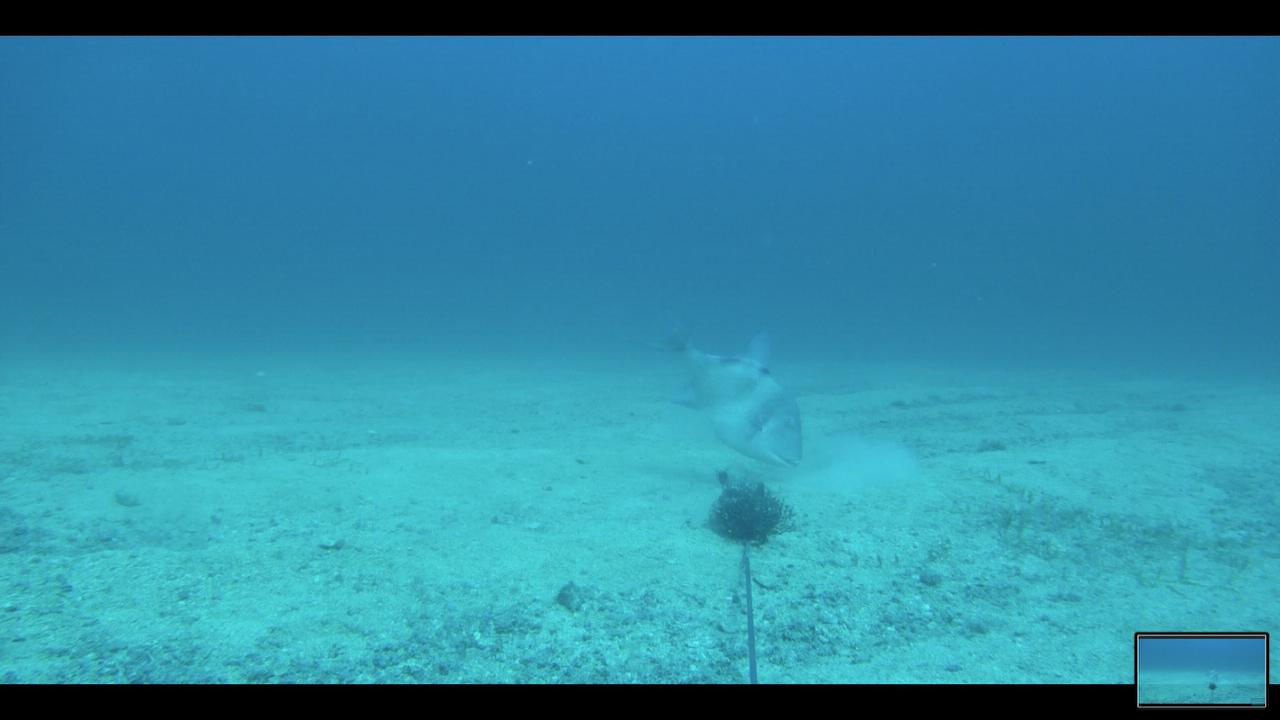balistes: (630, 305, 813, 477)
